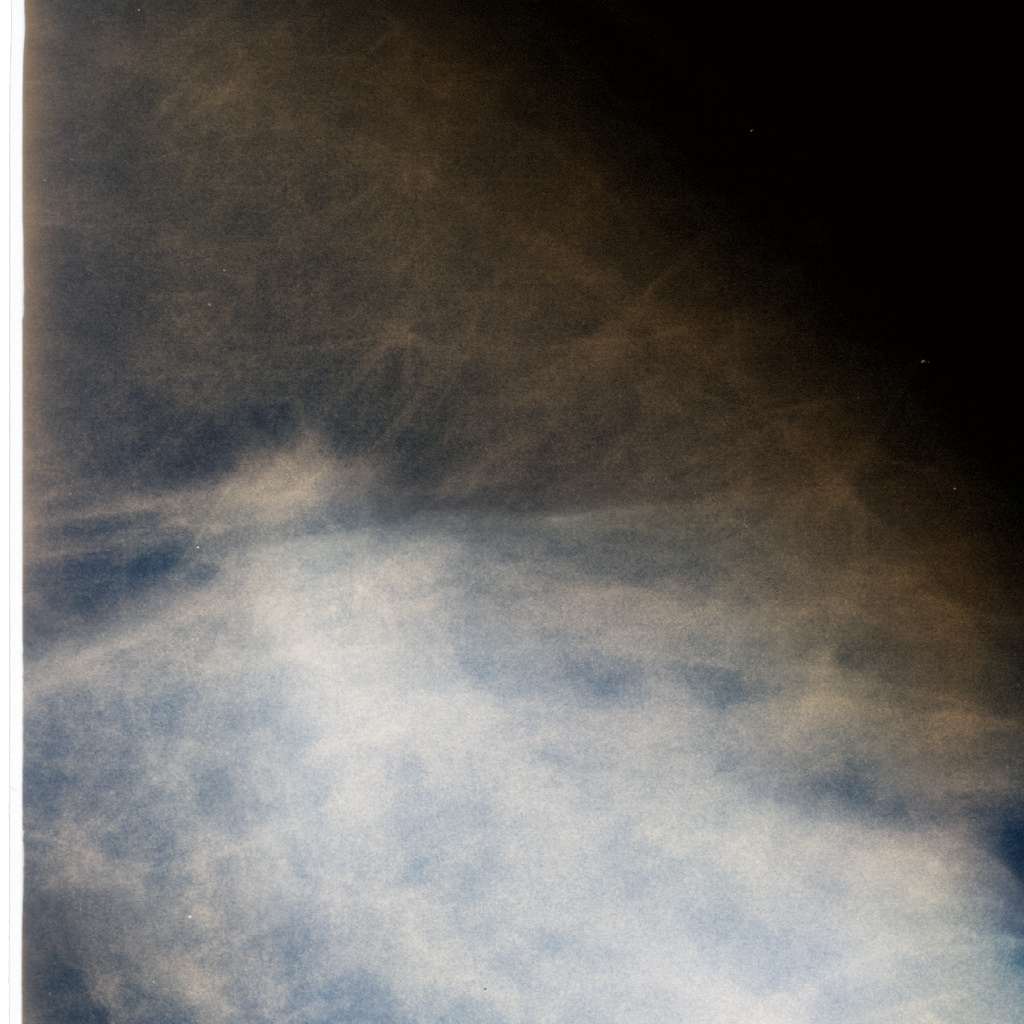tumor: (139, 399, 439, 625)
